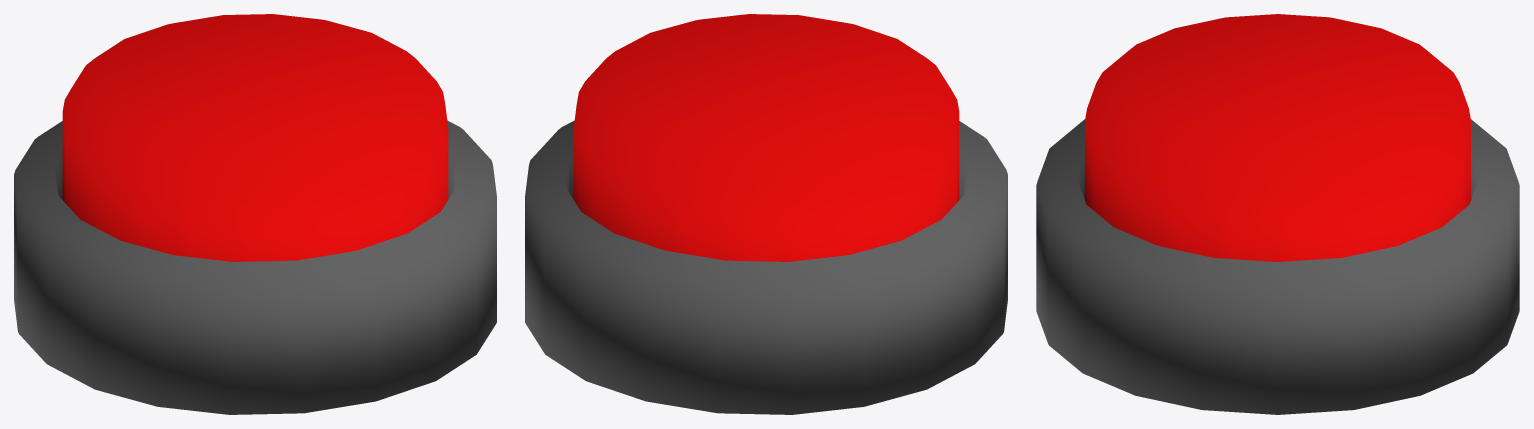
The model's file is Botao(Apertando).fbx.
3 renders of one model, left to right at view 1: azimuth 30°, elevation 25°; view 2: azimuth 150°, elevation 25°; view 3: azimuth 270°, elevation 25°, orthographic.
Visible parts, largest first — view 1: botao, base; view 2: botao, base; view 3: botao, base.
Part boxes in pixels (<box>): botao: <box>14,120,496,414</box>; base: <box>62,14,448,261</box>; botao: <box>525,120,1007,414</box>; base: <box>573,14,959,261</box>; botao: <box>1036,119,1519,414</box>; base: <box>1085,14,1470,261</box>.
Bounding box in the file's own units: 51.59 × 27.57 × 51.59.
